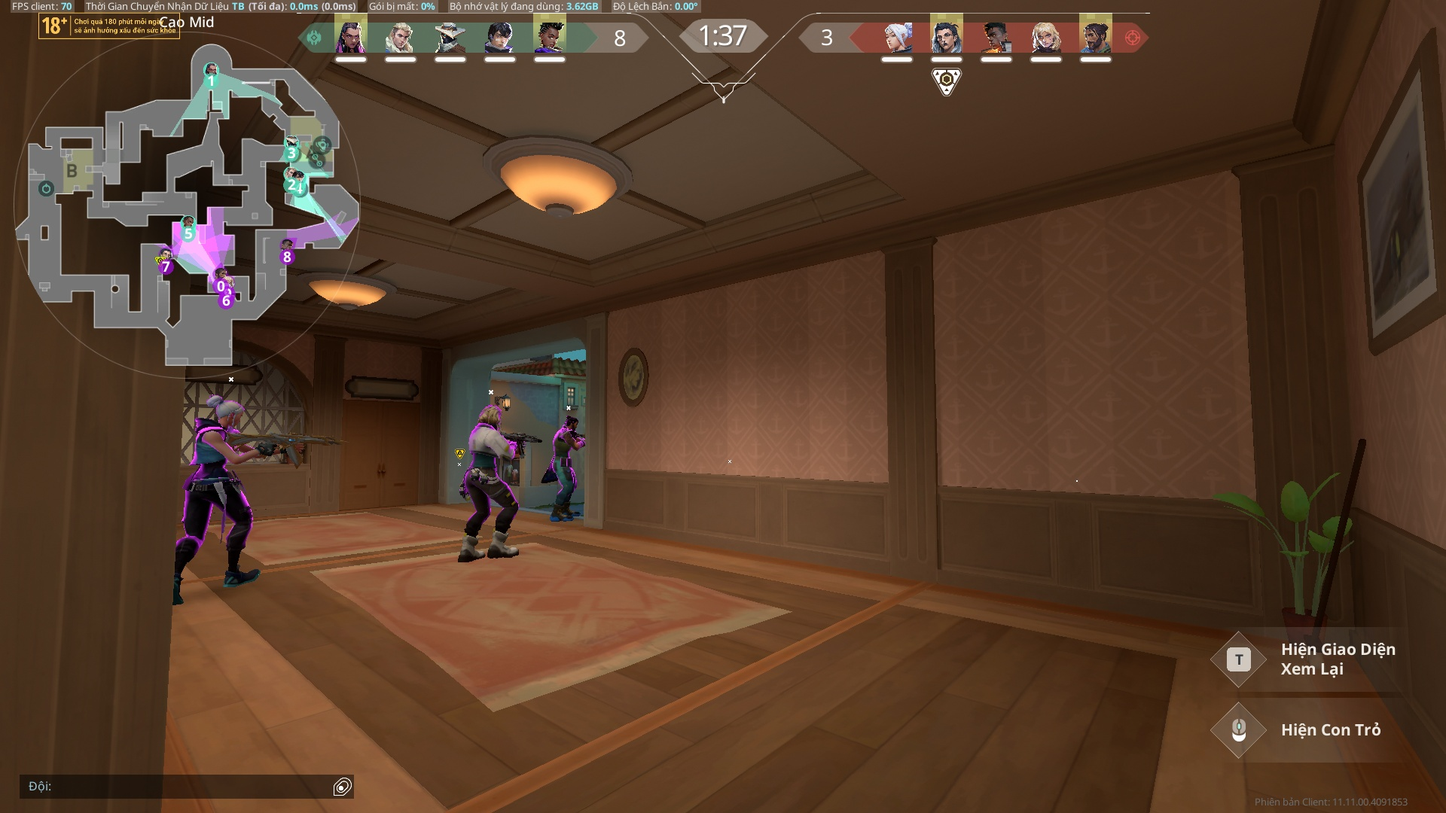body: (186, 419, 242, 476), (465, 425, 508, 468), (554, 422, 583, 459)
head: (214, 395, 248, 431), (475, 403, 505, 429), (563, 415, 580, 428)
